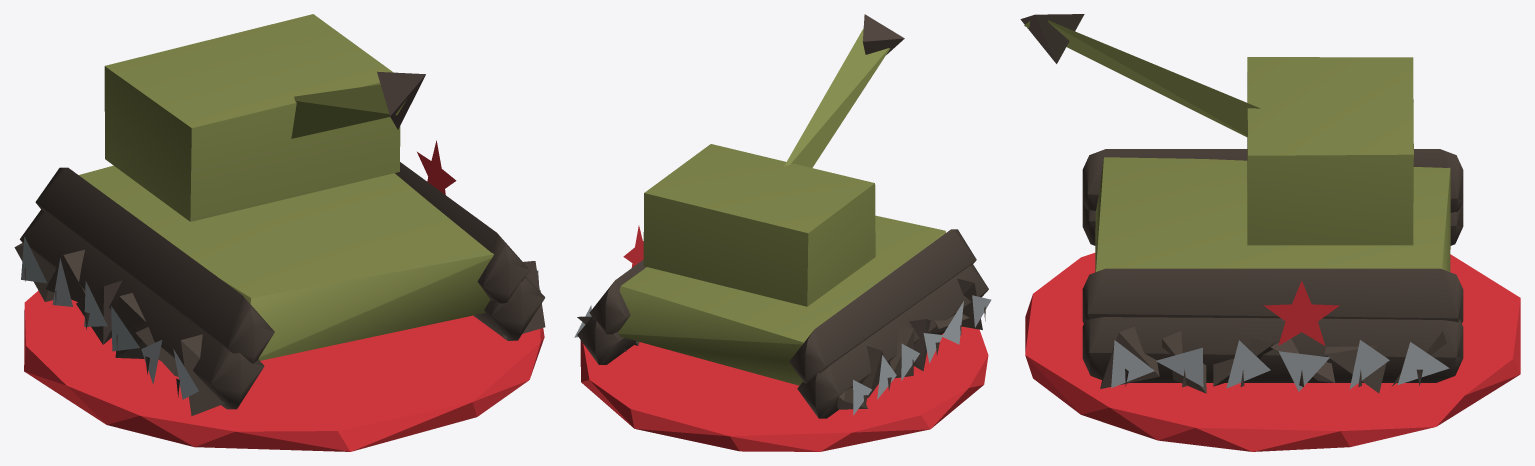
Rendered from soviet_union_artillery_lod1.glb.
3 renders of one model, left to right at view 1: azimuth 30°, elevation 25°; view 2: azimuth 150°, elevation 25°; view 3: azimuth 270°, elevation 25°, orthographic. The views are drawn at different scales.
Parts seen in each view (by area): view 1: body_hull, base_pedestal; view 2: body_hull, base_pedestal; view 3: body_hull, base_pedestal.
Part boxes in pixels (box(x1,y1,x2,y2)): body_hull: box(14, 14, 545, 415); base_pedestal: box(24, 290, 544, 451); body_hull: box(574, 14, 991, 418); base_pedestal: box(580, 326, 988, 451); body_hull: box(1020, 14, 1463, 393); base_pedestal: box(1025, 253, 1520, 451).
Bounding box in the file's own units: 0.7709 × 0.5763 × 0.7676.
